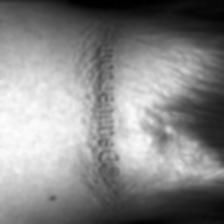Unclassified: (96, 193, 130, 218), (89, 12, 128, 28)
